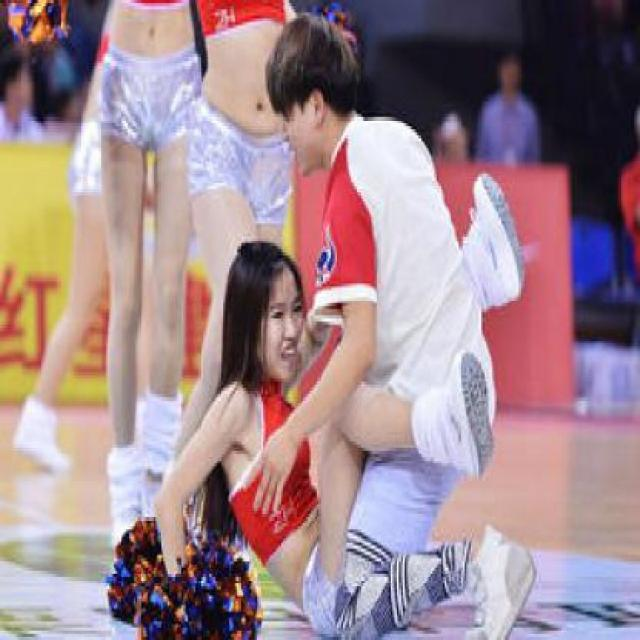fall: (132, 223, 508, 628)
